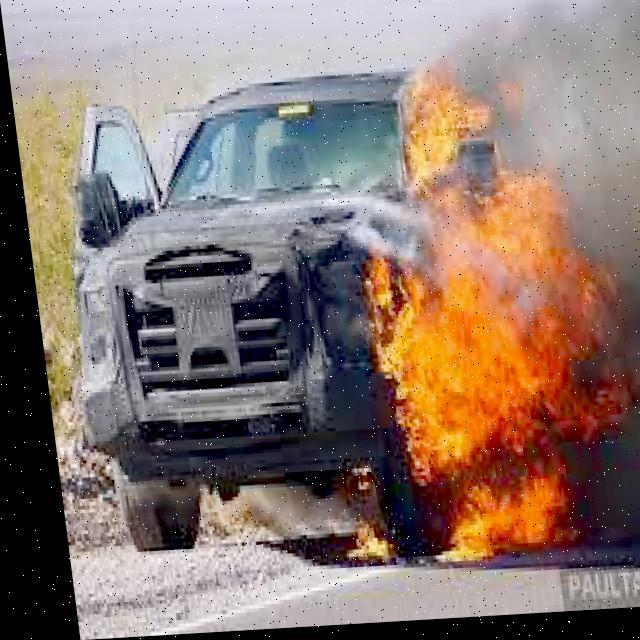Fire: (343, 60, 639, 586)
